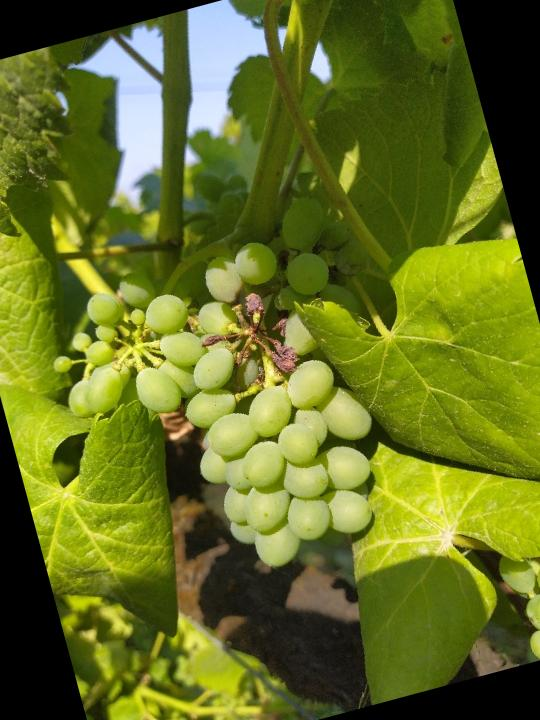grape: (17, 178, 444, 617), (487, 522, 540, 663)
